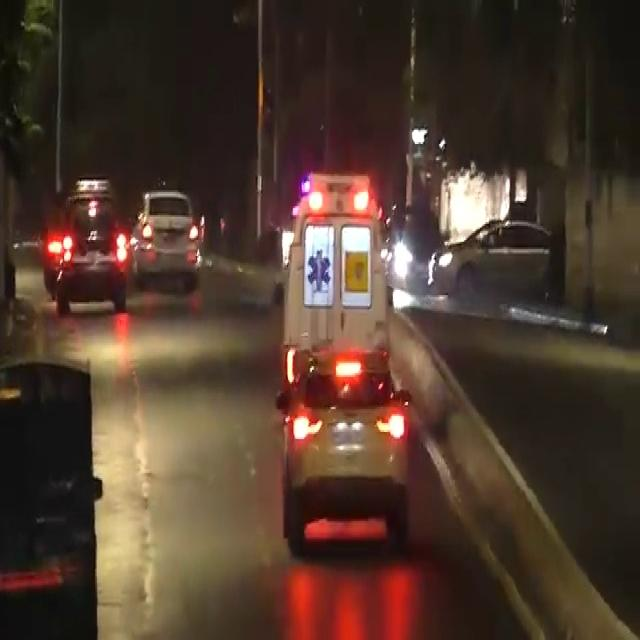ambulance: (271, 145, 417, 407)
